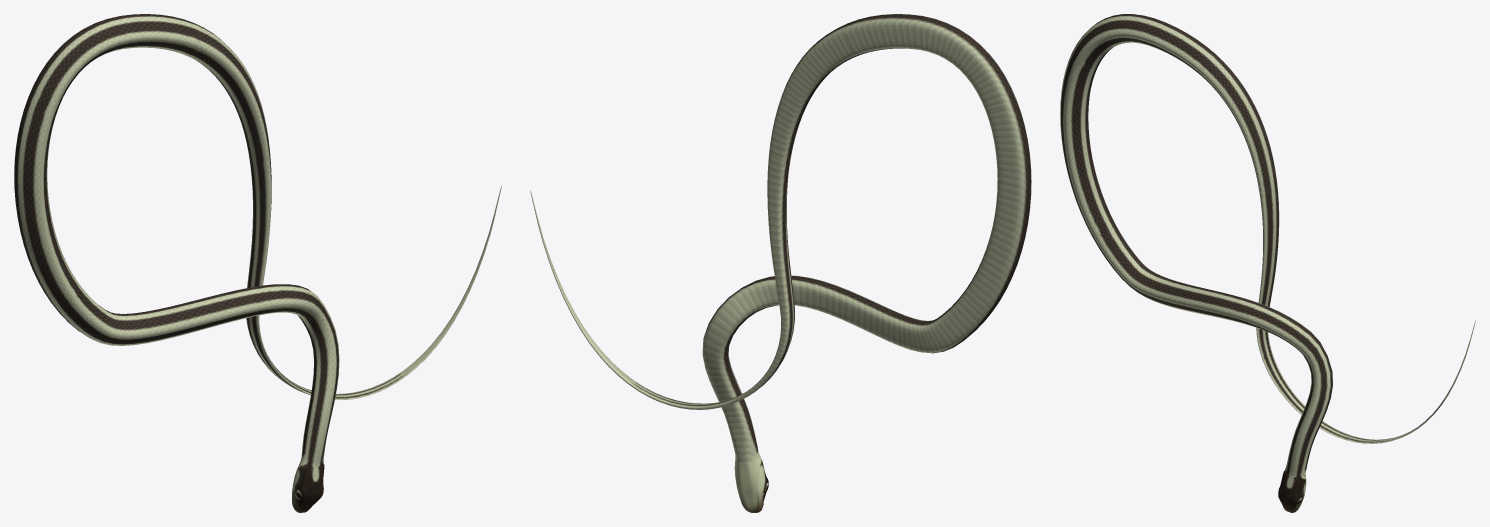
The model's file is 13109_Eastern_Ribbon_Snake_v1_l2.obj.
3 renders of one model, left to right at view 1: azimuth 30°, elevation 25°; view 2: azimuth 150°, elevation 25°; view 3: azimuth 330°, elevation 25°, orthographic. The views are drawn at different scales.
Visible parts, largest first — view 1: Eastern_Ribbon_Snake; view 2: Eastern_Ribbon_Snake; view 3: Eastern_Ribbon_Snake.
Part boxes in pixels (x1,y1,x2,y2): Eastern_Ribbon_Snake: (14,14,501,512); Eastern_Ribbon_Snake: (530,14,1031,512); Eastern_Ribbon_Snake: (1060,14,1475,512).
Size of the model in its own units: 26.86 by 28.05 by 2.33.
Materials: 1 (1 with a texture image).
